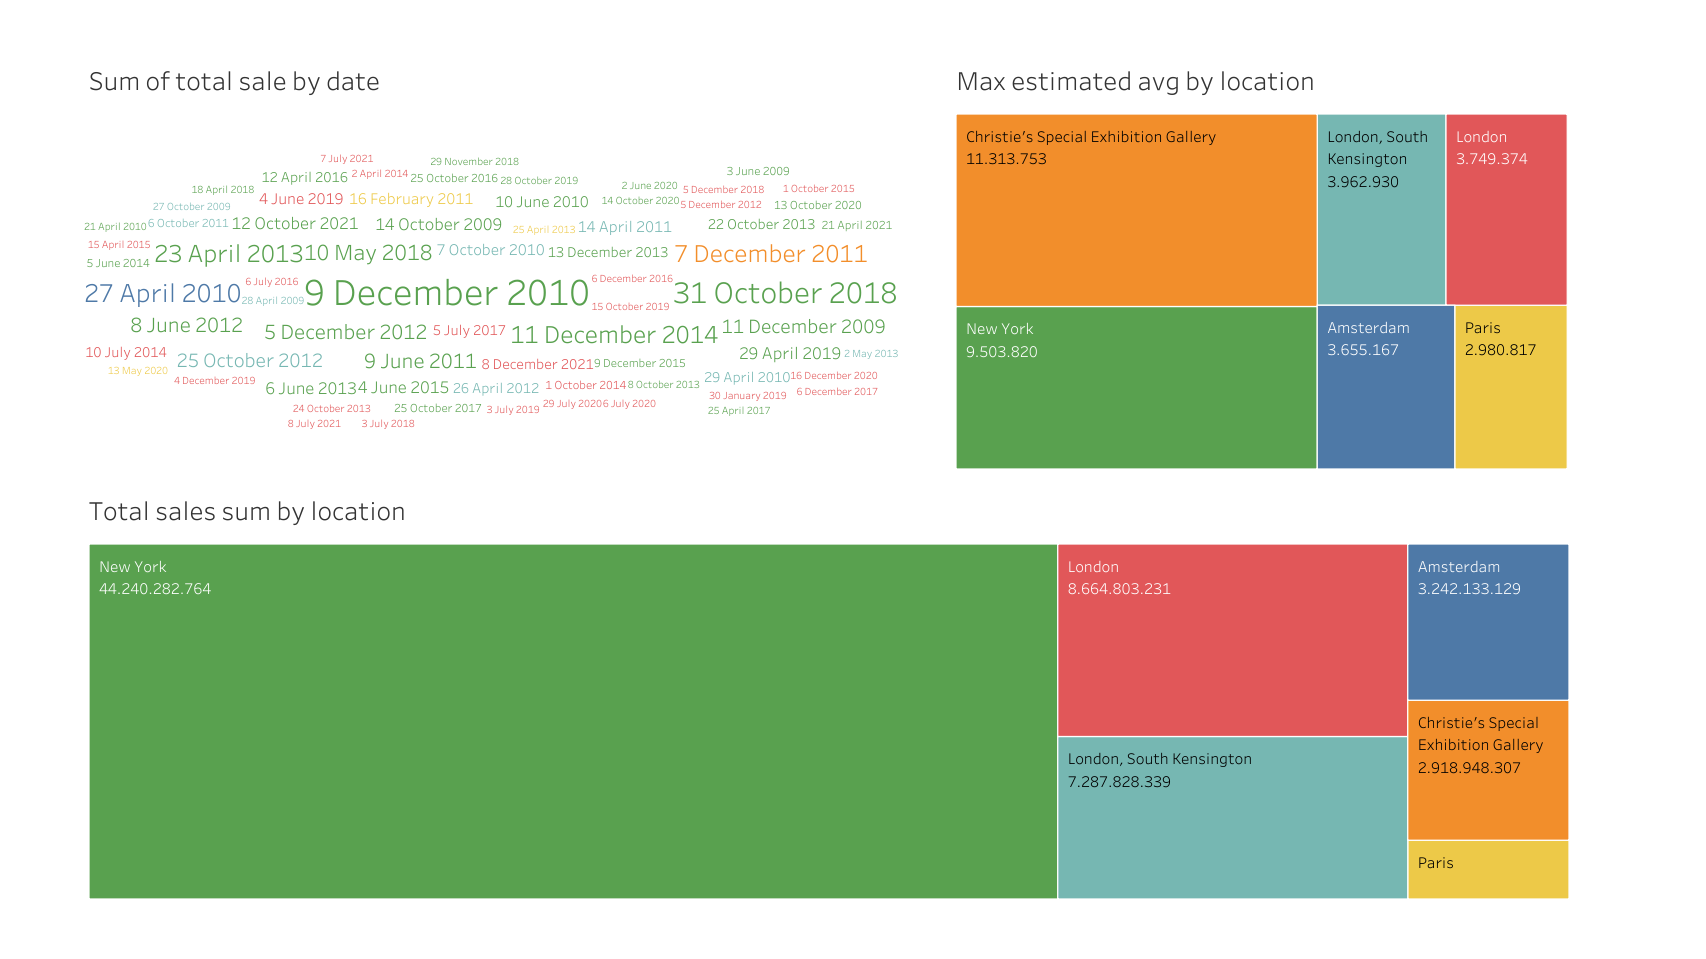

What the dashboard file says about the page in this screenshot:
{"tool":"tableau","page":{"name":"location total sales and est","canvas":[1366,768],"ordinal":4},"visuals":[{"type":"blank","box":[8,8,55,752]},{"type":"blank","box":[63,8,1200,32]},{"type":"blank","box":[1263,8,95,752]},{"type":"worksheet","title":"Sum of total sale by date","mark":"Text","box":[63,40,661,344]},{"type":"blank","box":[724,40,33,344]},{"type":"worksheet","title":"Max estimated avg by location (2)","mark":"Automatic","box":[757,40,506,344]},{"type":"worksheet","title":"Total sales sum by location","mark":"Automatic","box":[63,384,1200,344]},{"type":"blank","box":[63,728,1200,32]}]}

Visuals, with their boxes in screenshot pixels (x1, y1, x2, y2), scaled from the page's 1366x768 canvas onto the 1706x959 screenshot:
blank: [10,10,79,949]
blank: [79,10,1577,50]
blank: [1577,10,1696,949]
"Sum of total sale by date" worksheet (Text marks): [79,50,904,480]
blank: [904,50,945,480]
"Max estimated avg by location (2)" worksheet: [945,50,1577,480]
"Total sales sum by location" worksheet: [79,480,1577,909]
blank: [79,909,1577,949]
